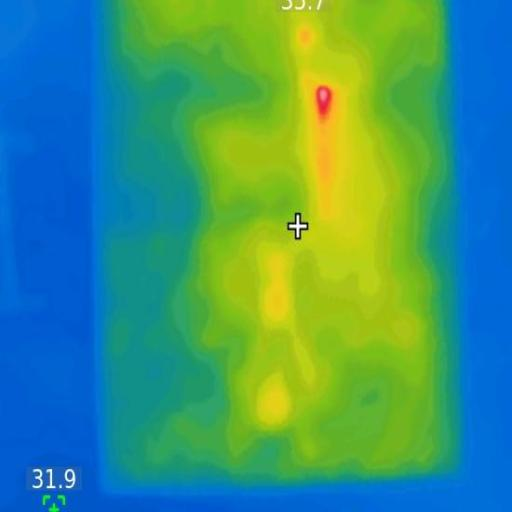hotspot: (313, 81, 334, 119)
